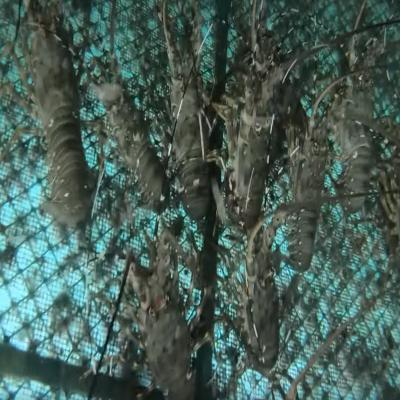lobster: (22, 15, 91, 207), (121, 242, 196, 396), (167, 25, 216, 210), (102, 71, 172, 200), (229, 56, 282, 216), (333, 66, 376, 209), (290, 111, 325, 269), (243, 231, 283, 363)
